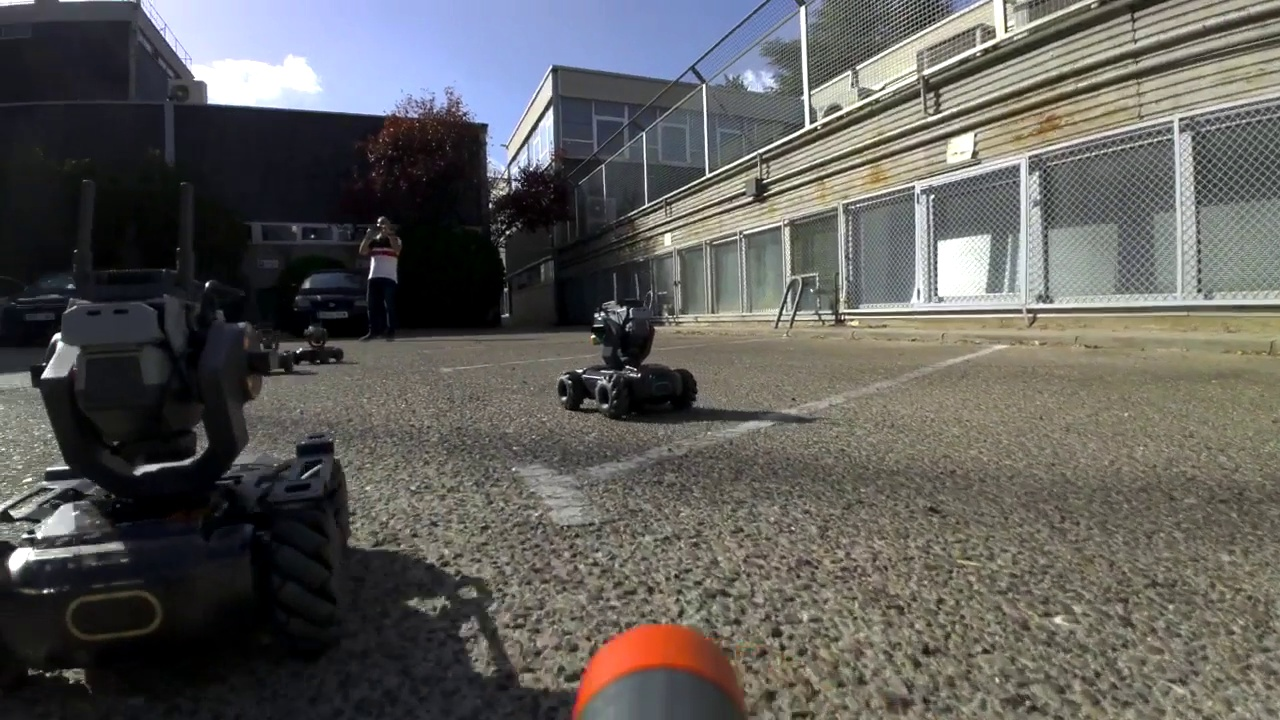robot: (2, 177, 342, 677), (556, 269, 699, 418), (290, 312, 348, 364)
